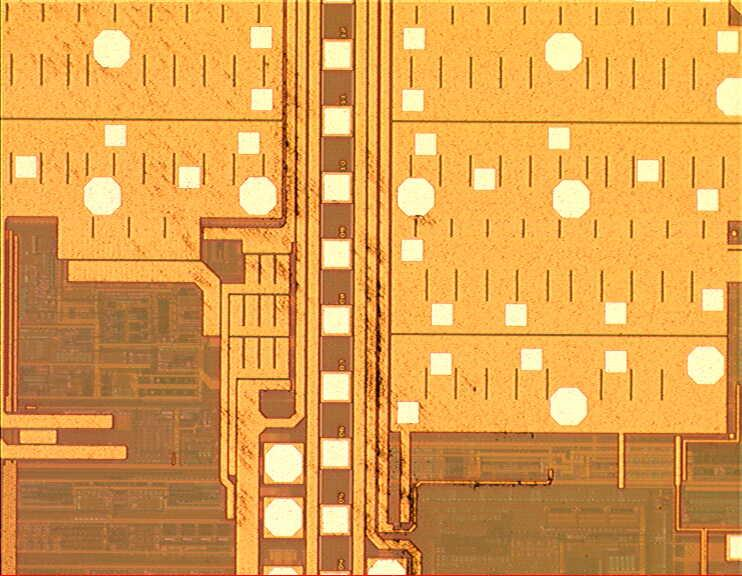SCRATCH: (1, 1, 558, 575)
